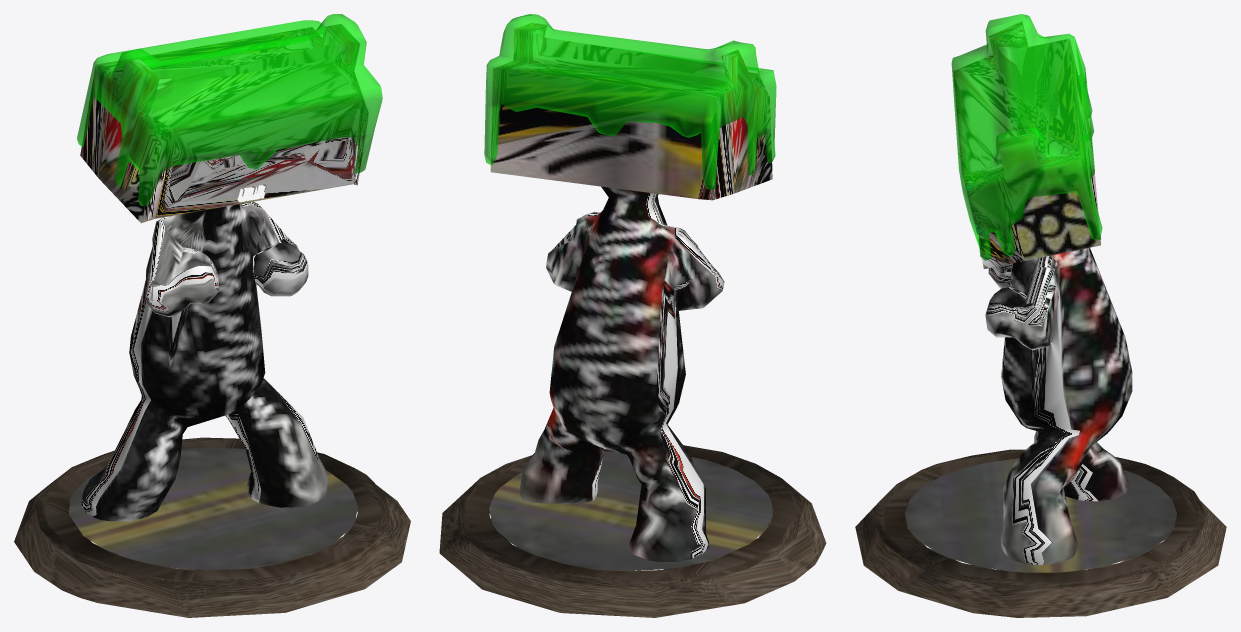
3 views of the same model, side by side, from view 1: azimuth 30°, elevation 25°; view 2: azimuth 150°, elevation 25°; view 3: azimuth 270°, elevation 25° (orthographic). The views are drawn at different scales.
Bounding box in the file's own units: 1.44 × 2.06 × 1.43.
Materials: 6 (4 with a texture image).
